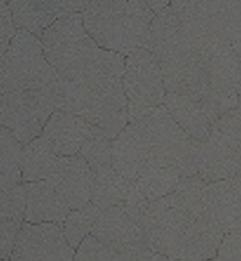fissura: (8, 11, 220, 261)
